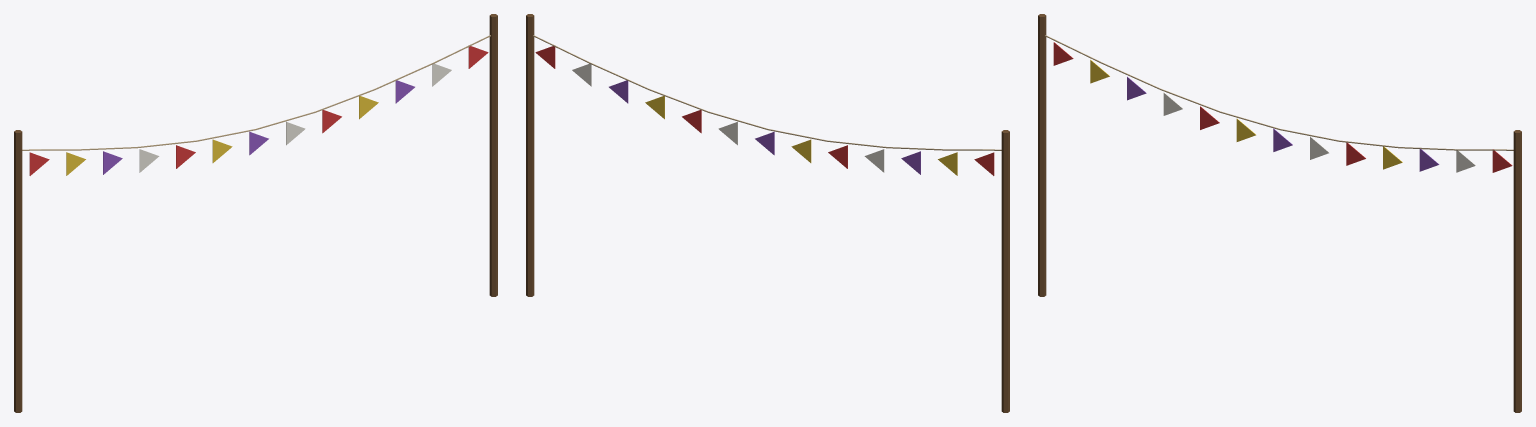
The model's file is bunting.glb.
3 renders of one model, left to right at view 1: azimuth 30°, elevation 25°; view 2: azimuth 150°, elevation 25°; view 3: azimuth 330°, elevation 25°, orthographic.
Visible parts, largest first — view 1: bunting; view 2: bunting; view 3: bunting.
Part boxes in pixels (bbox=[...]): bunting: bbox=[14, 14, 497, 412]; bunting: bbox=[526, 14, 1009, 412]; bunting: bbox=[1038, 14, 1521, 412].
Bounding box in the file's own units: 8.1 × 4.5 × 0.12.
